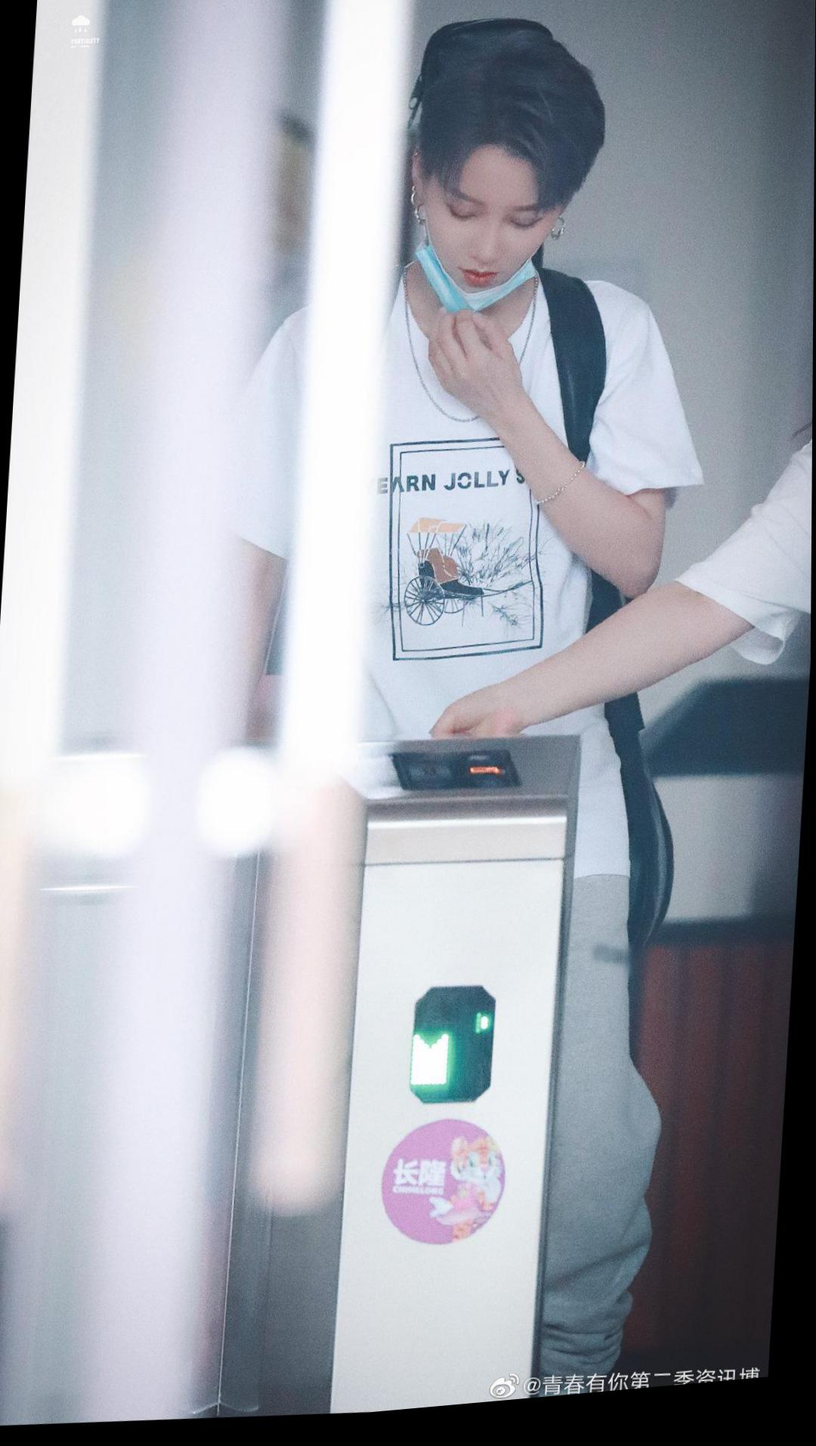WRONG: (423, 159, 560, 327)
